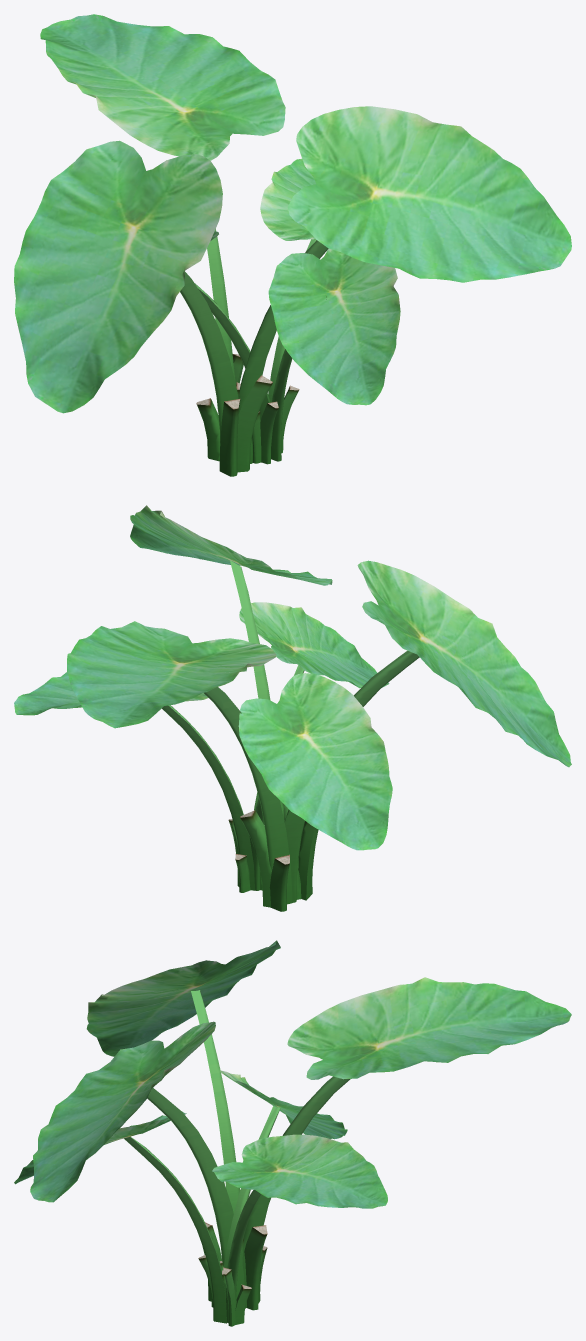
The picture shows the model from 3 angles, top to bottom: view 1: azimuth 30°, elevation 25°; view 2: azimuth 150°, elevation 25°; view 3: azimuth 270°, elevation 25°; orthographic projection. The views are drawn at different scales.
Visible parts, largest first — view 1: test_unity_24:polySurface1; view 2: test_unity_24:polySurface1; view 3: test_unity_24:polySurface1.
Boxes of the visible parts, <box> form: test_unity_24:polySurface1: <box>14,14,571,476</box>; test_unity_24:polySurface1: <box>14,505,571,911</box>; test_unity_24:polySurface1: <box>14,940,571,1326</box>.
Size of the model in its own units: 0.6433 by 0.426 by 0.6743.
